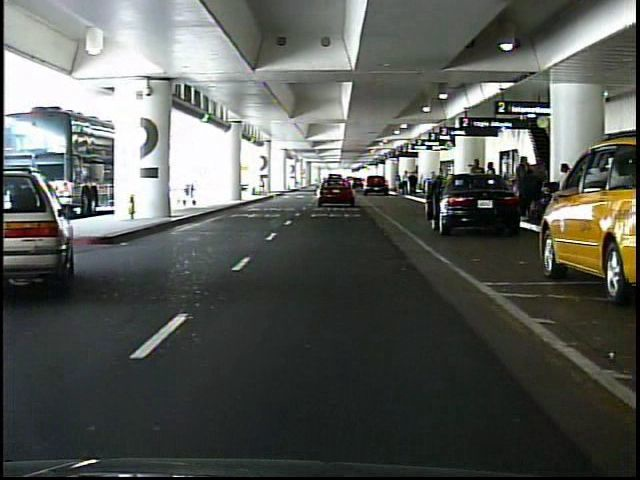person: (513, 157, 535, 222), (527, 153, 548, 220), (469, 156, 487, 211), (485, 160, 500, 210), (402, 170, 411, 197), (411, 173, 419, 198), (395, 175, 403, 194)
